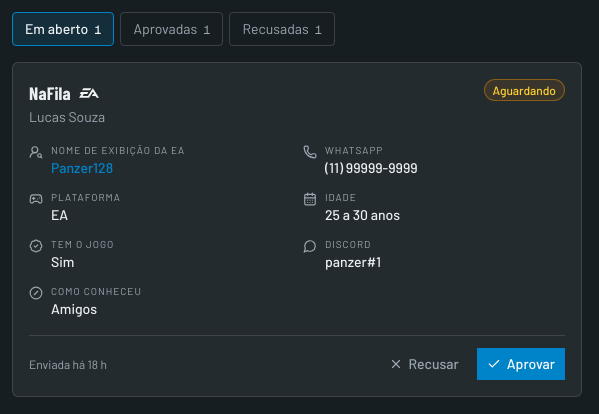
Scenario: RecruitsList — filtro › switches to the rejected ones
This screenshot has width=599, height=414.
What coordinates should you click on to do the following:
click the tab "Recusadas1"
I would click on:
 (282, 29)
Its box is x1=230 y1=12 x2=335 y2=46.
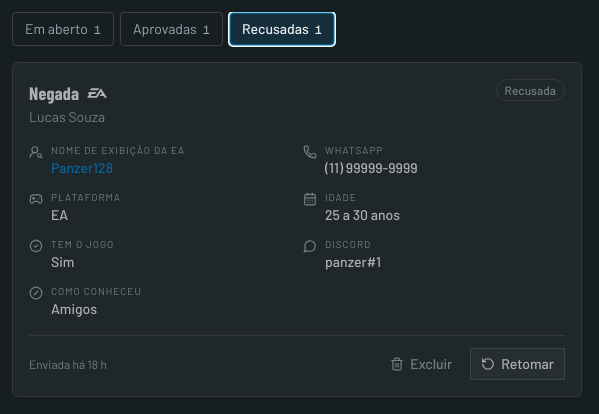
Now the heading "Negada" is shown, box x1=29 y1=79 x2=79 y2=107
Now the heading "NaFila" is gone
